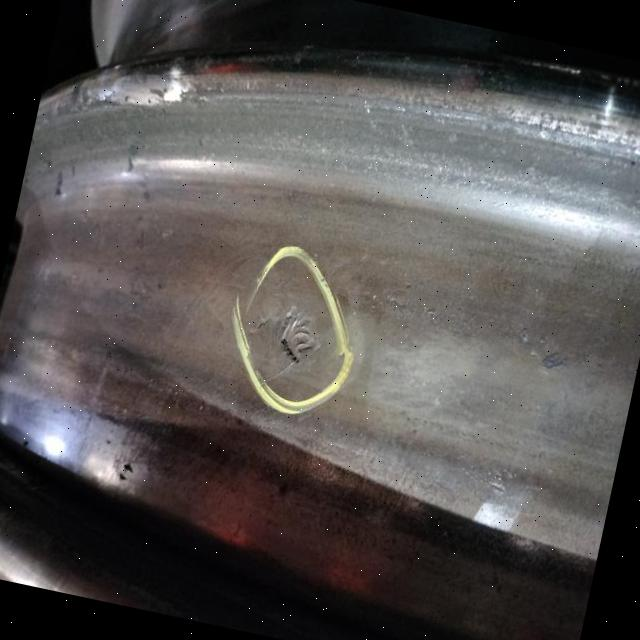Rollerpile: (246, 302, 322, 371)
